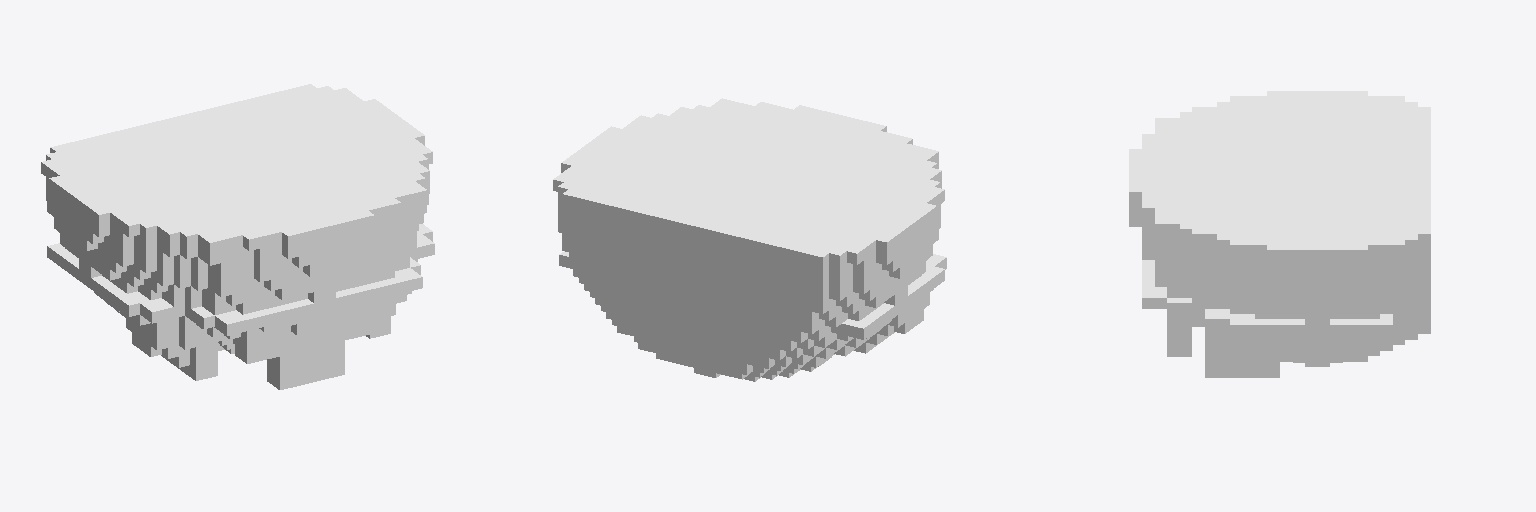
Rendered from helmet2.obj.
The picture shows the model from 3 angles: view 1: azimuth 30°, elevation 25°; view 2: azimuth 150°, elevation 25°; view 3: azimuth 270°, elevation 25°; orthographic projection.
Visible parts, largest first — view 1: helmet2; view 2: helmet2; view 3: helmet2.
Part boxes in pixels (x1,y1,x2,y2): helmet2: (41,84,434,389); helmet2: (553,98,946,381); helmet2: (1129,91,1430,377).
Bounding box in the file's own units: 30 × 15 × 24.